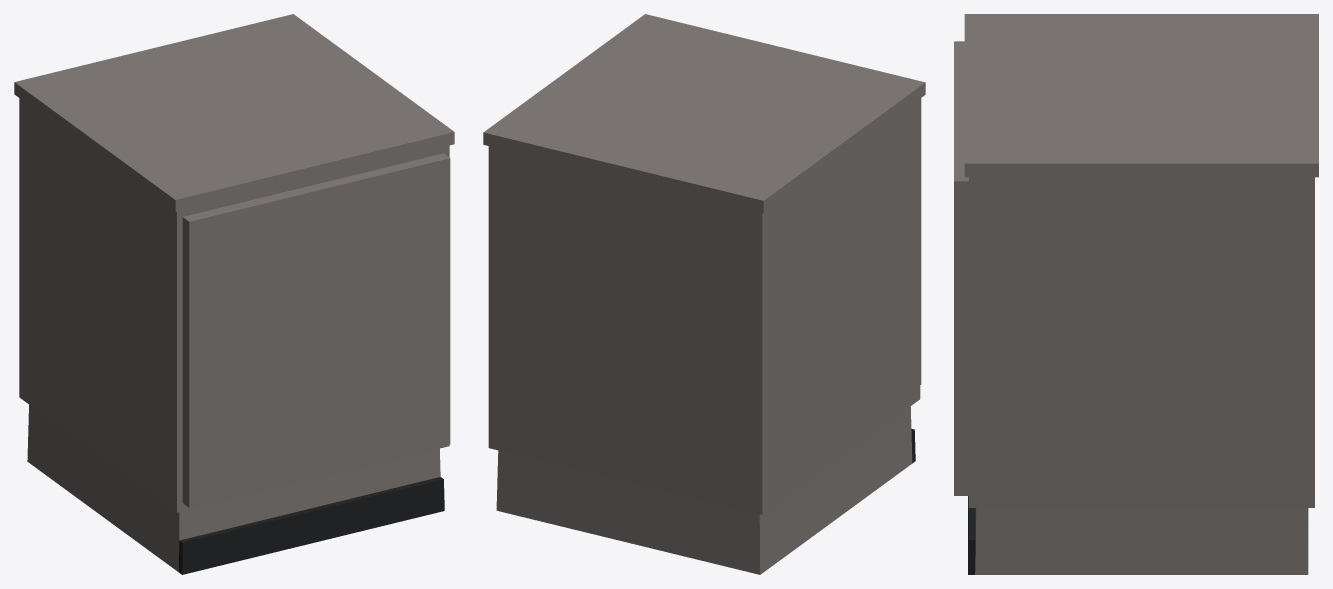
The model's file is Dishwasher_01_A.gltf.
3 renders of one model, left to right at view 1: azimuth 30°, elevation 25°; view 2: azimuth 150°, elevation 25°; view 3: azimuth 270°, elevation 25°, orthographic. The views are drawn at different scales.
Visible parts, largest first — view 1: Dishwasher_01_A, DoorDishwasher_01_A; view 2: Dishwasher_01_A, DoorDishwasher_01_A; view 3: Dishwasher_01_A, DoorDishwasher_01_A.
Part boxes in pixels (box(x1,y1,x2,y2)): Dishwasher_01_A: box(14, 14, 454, 574); DoorDishwasher_01_A: box(182, 153, 450, 507); Dishwasher_01_A: box(483, 14, 925, 574); DoorDishwasher_01_A: box(920, 98, 921, 384); Dishwasher_01_A: box(964, 14, 1318, 574); DoorDishwasher_01_A: box(954, 41, 968, 495).
Size of the model in its own units: 1.02 by 1.32 by 1.05.
1 material, 1 textured.
